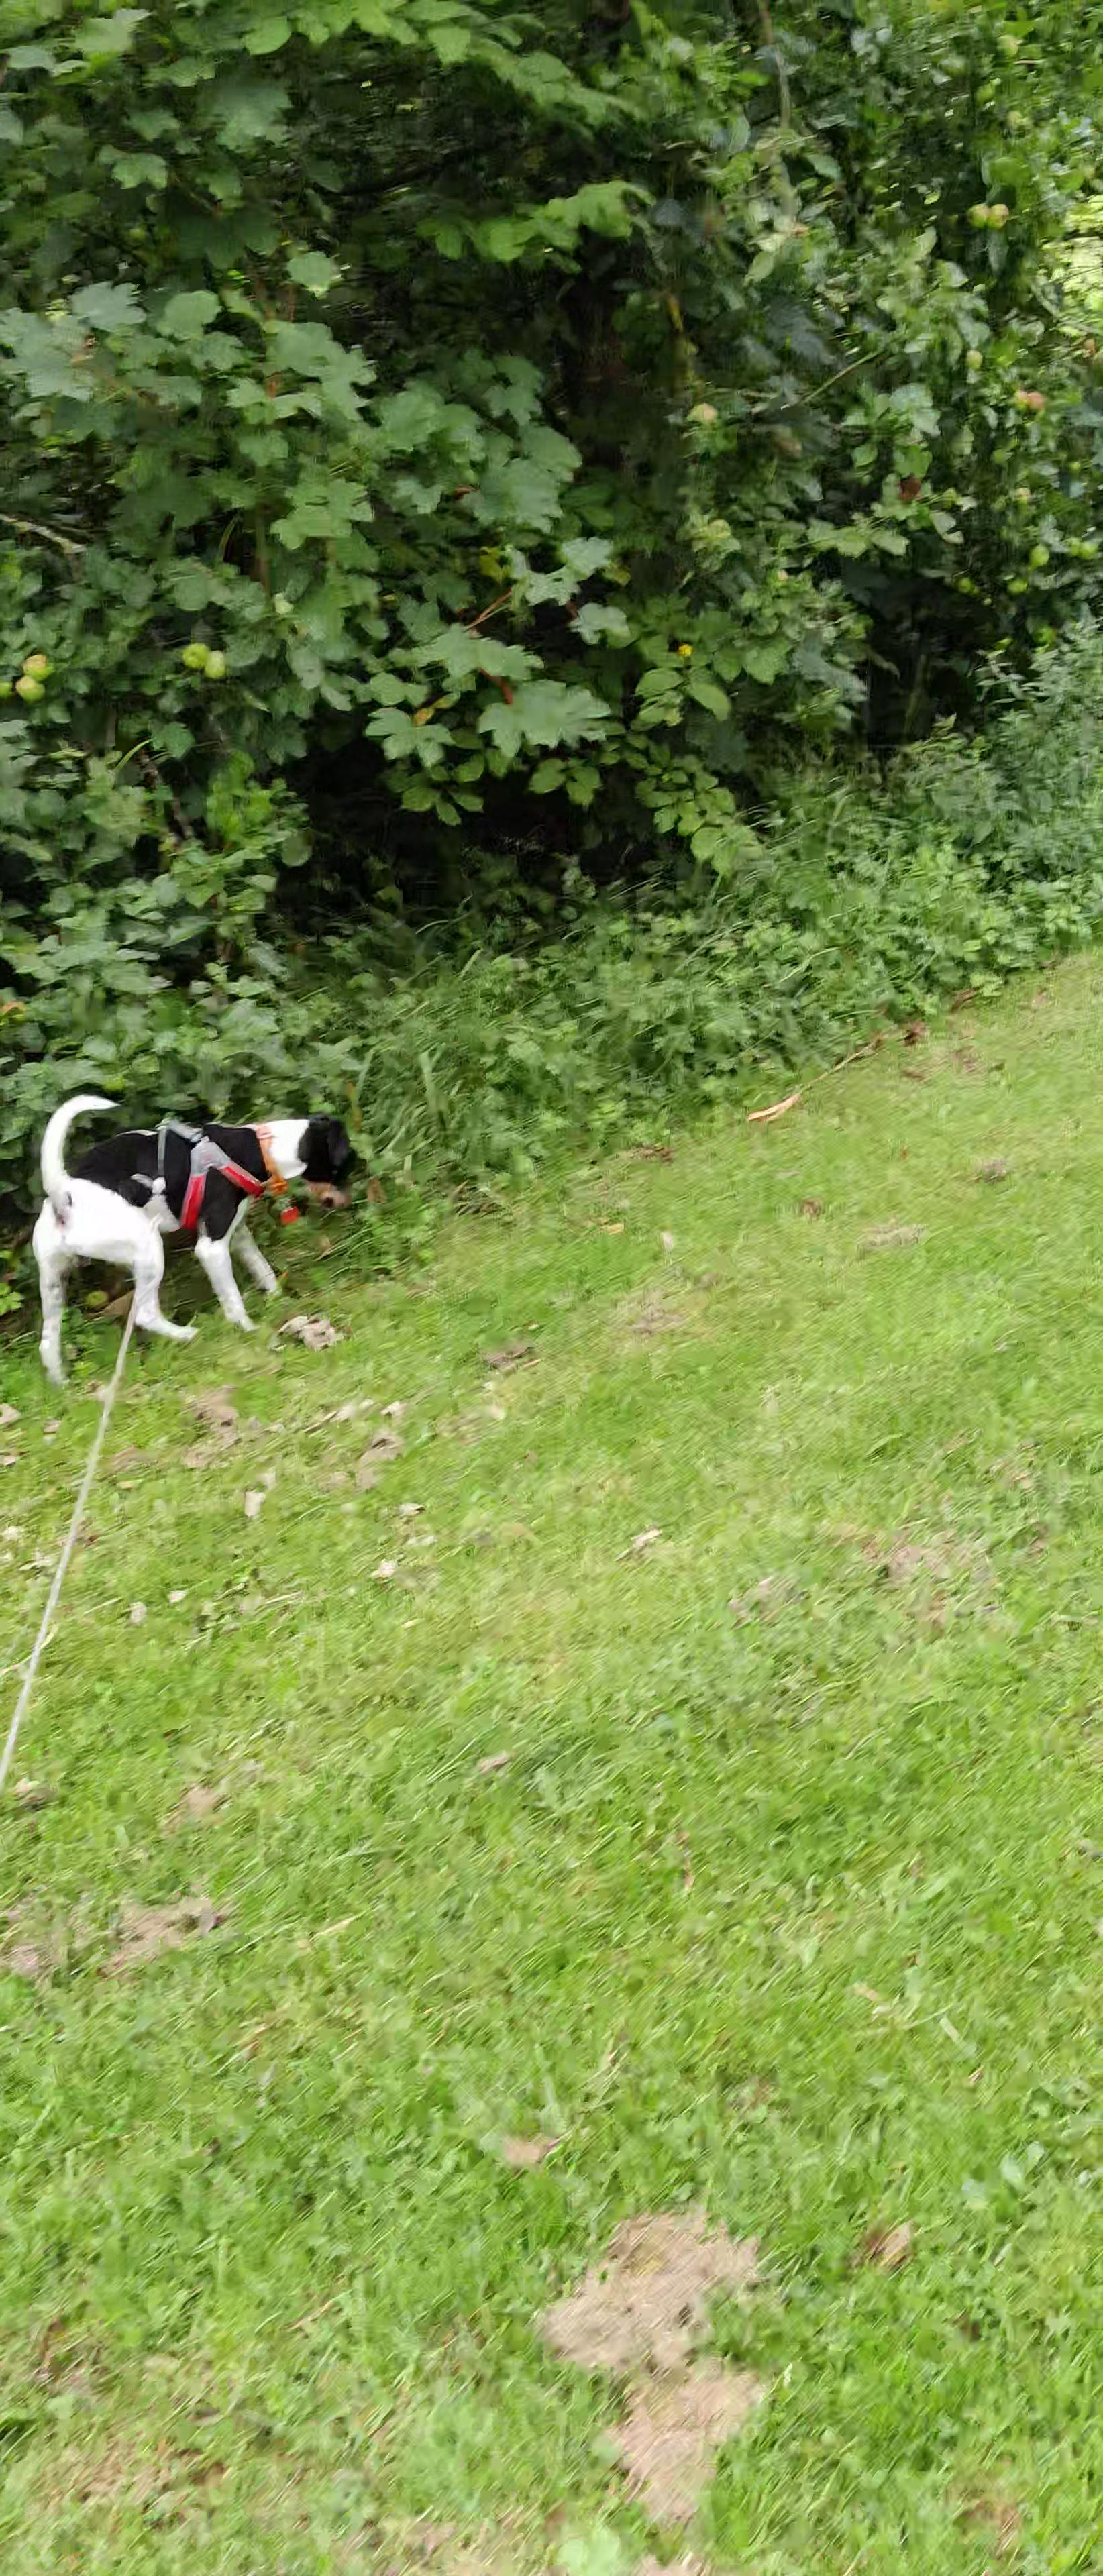Dog: (33, 1091, 363, 1390)
